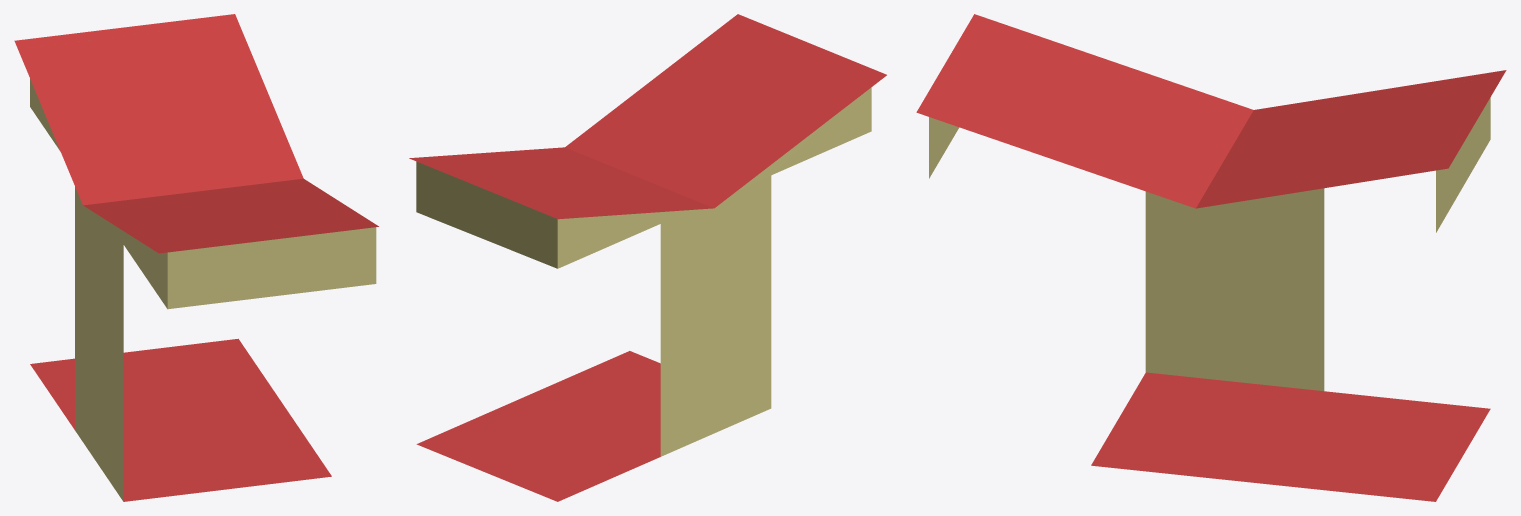
3 renders of one model, left to right at view 1: azimuth 30°, elevation 25°; view 2: azimuth 150°, elevation 25°; view 3: azimuth 270°, elevation 25°, orthographic. The views are drawn at different scales.
Size of the model in its own units: 6.98 by 11.26 by 7.04.
